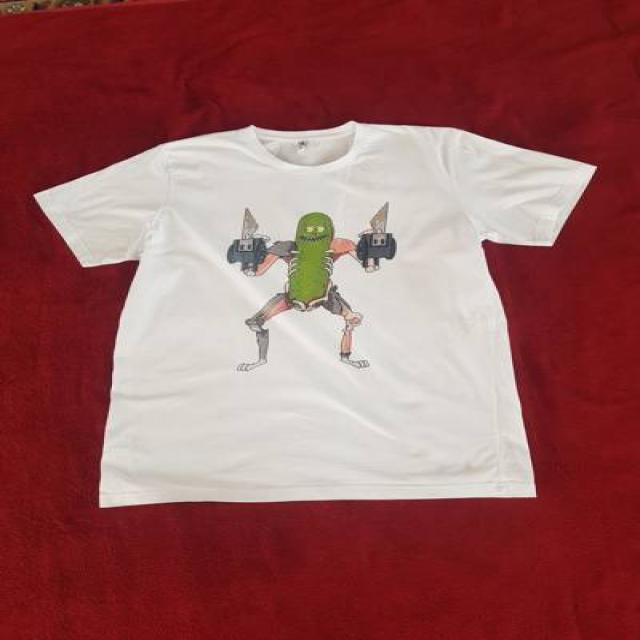shirt: (31, 120, 596, 508)
